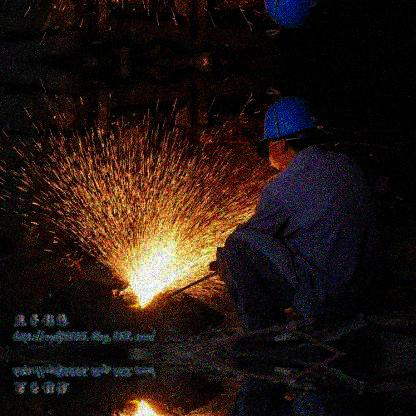helmet: (262, 95, 325, 171)
